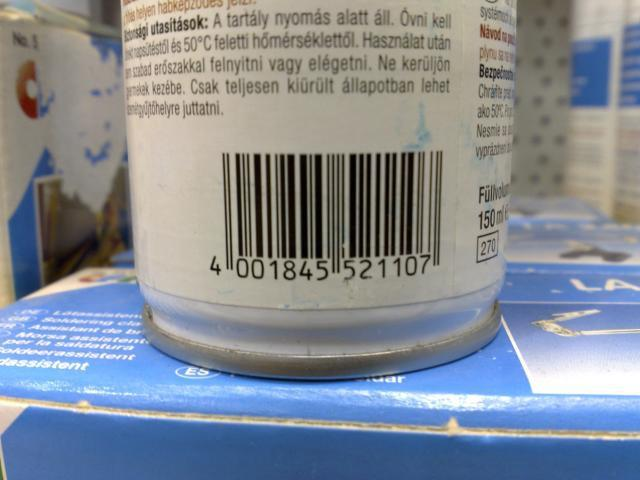Barcode: (202, 139, 451, 288)
